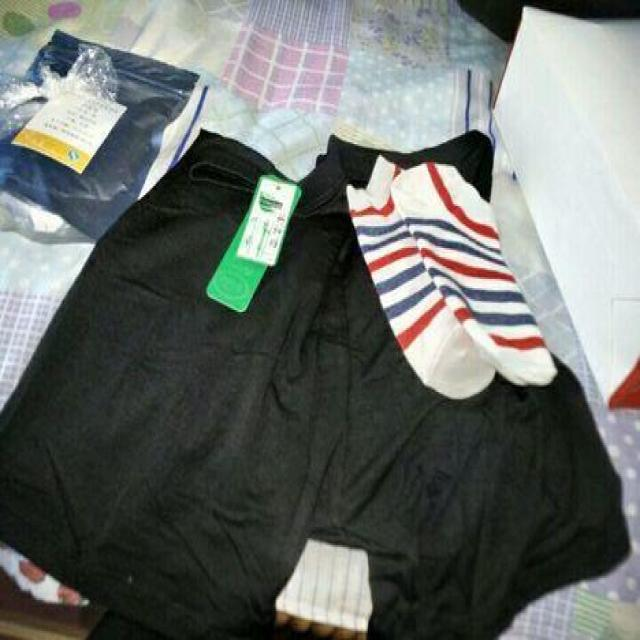shorts: (16, 89, 633, 626)
